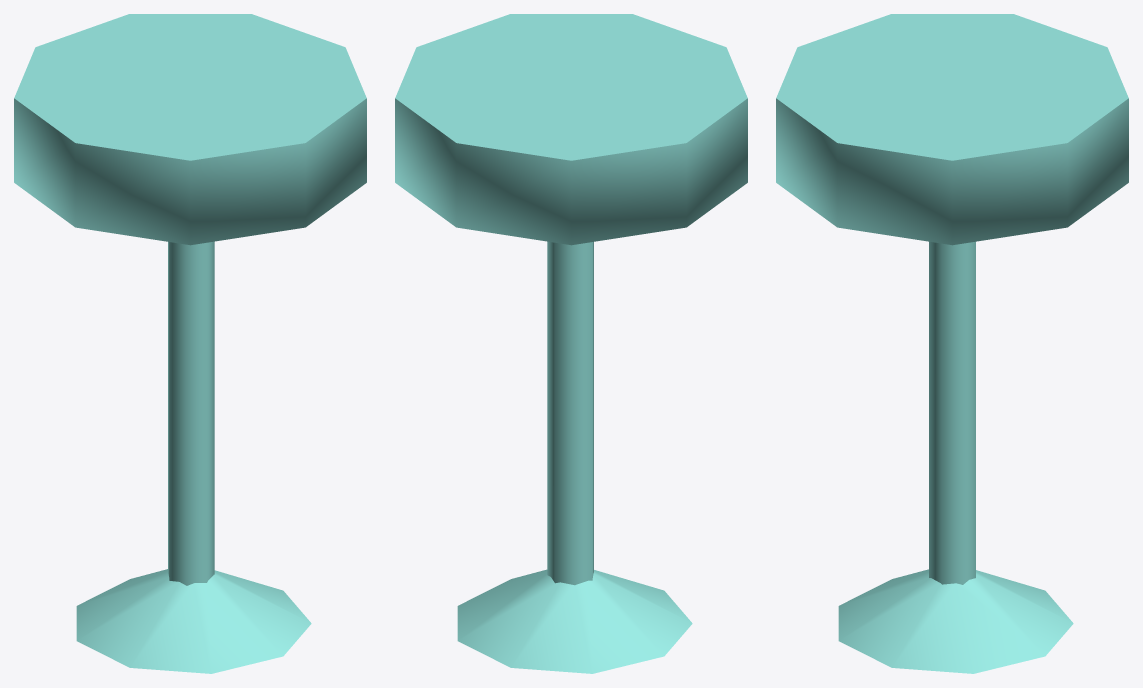
The model's file is BarChair_Collision.fbx.
3 renders of one model, left to right at view 1: azimuth 30°, elevation 25°; view 2: azimuth 150°, elevation 25°; view 3: azimuth 270°, elevation 25°, orthographic.
Visible parts, largest first — view 1: BarChair_Collision; view 2: BarChair_Collision; view 3: BarChair_Collision.
Boxes of the visible parts, bbox=[...] form: BarChair_Collision: bbox=[14, 14, 366, 673]; BarChair_Collision: bbox=[395, 14, 747, 673]; BarChair_Collision: bbox=[776, 14, 1128, 673].
Bounding box in the file's own units: 0.4047 × 0.6919 × 0.411.
